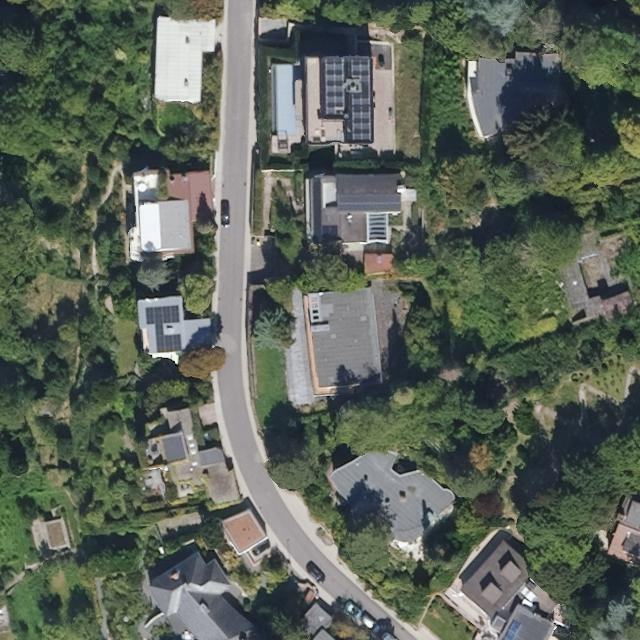PV: (143, 304, 182, 354), (502, 619, 522, 639)
